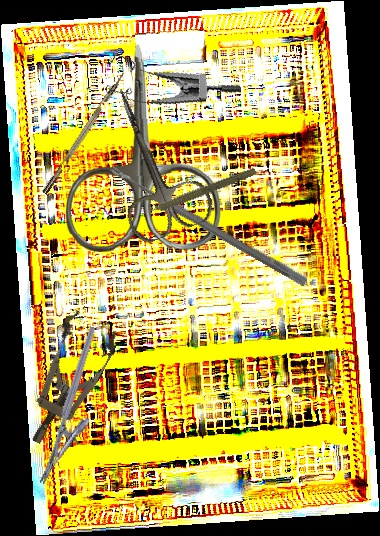Chopper: (35, 62, 132, 195)
Handpiece: (135, 163, 258, 221)
Iris Scissors: (62, 42, 222, 253), (82, 72, 218, 248)
Needle Holder: (37, 325, 119, 492)
Speculum: (9, 307, 123, 455), (98, 28, 242, 123)
Surgical Spoon: (108, 164, 309, 287)
